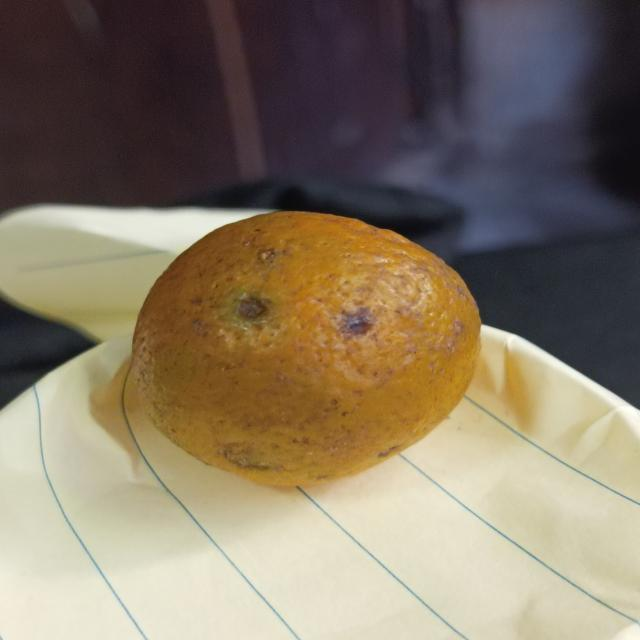black spot: (115, 206, 488, 494)
